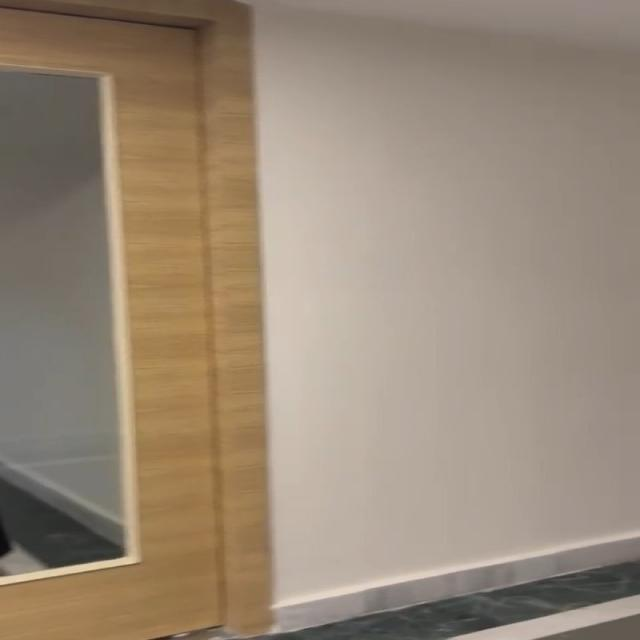door: (0, 10, 269, 640)
floor: (299, 569, 640, 640)
wall: (262, 0, 640, 553)
